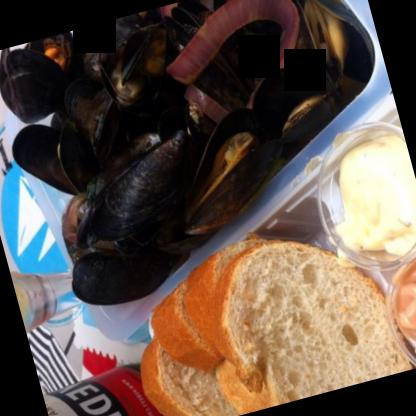bread: (192, 214, 410, 416), (142, 232, 324, 415), (132, 316, 267, 415)
